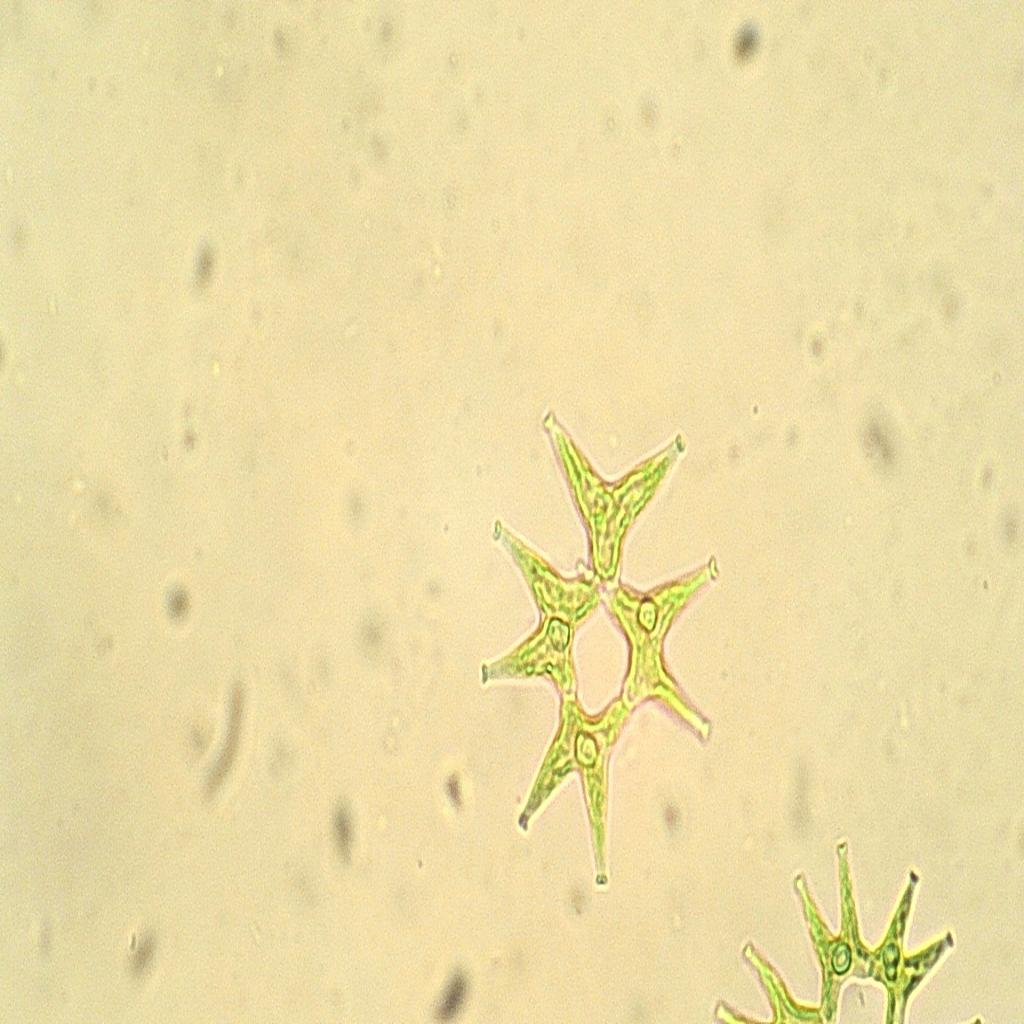Pediastrum_75FI: (468, 387, 742, 910)
